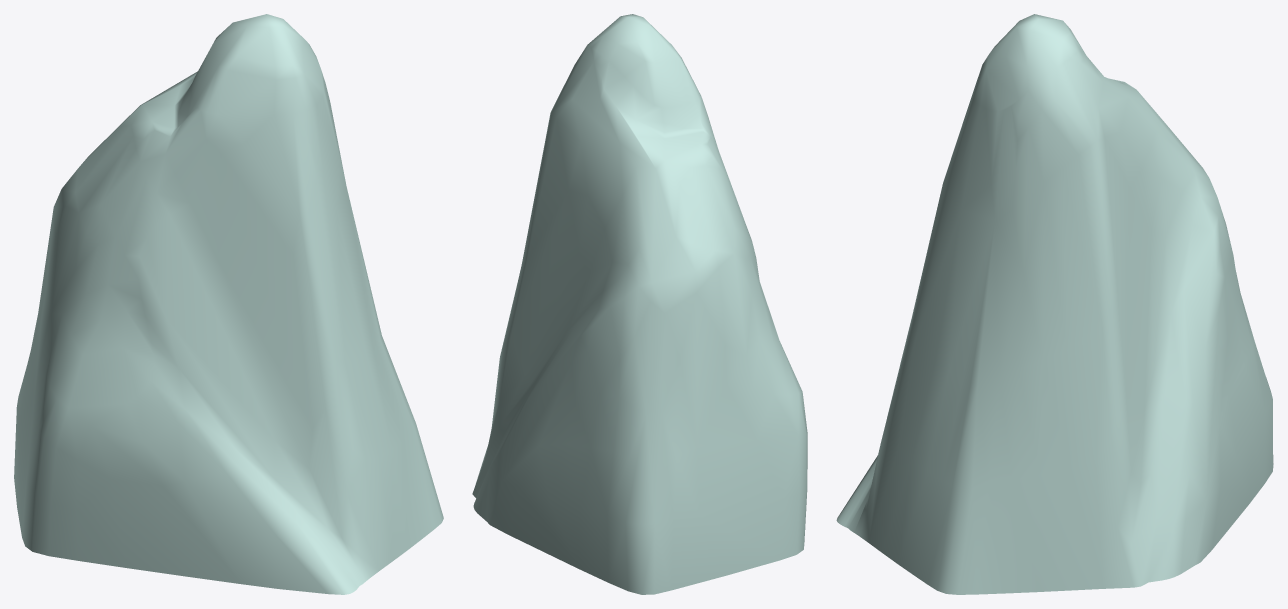
File: ICE_Medium_low.fbx
3 renders of one model, left to right at view 1: azimuth 30°, elevation 25°; view 2: azimuth 150°, elevation 25°; view 3: azimuth 270°, elevation 25°, orthographic. The views are drawn at different scales.
Visible parts, largest first — view 1: RockA_low1; view 2: RockA_low1; view 3: RockA_low1.
Part boxes in pixels (x1,y1,x2,y2): RockA_low1: [14, 14, 443, 594]; RockA_low1: [472, 14, 807, 594]; RockA_low1: [836, 14, 1273, 594].
Size of the model in its own units: 276 by 384 by 299.
